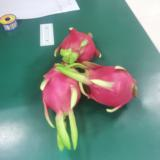pitaya: (78, 64, 138, 112), (41, 66, 80, 139), (57, 28, 101, 65)
